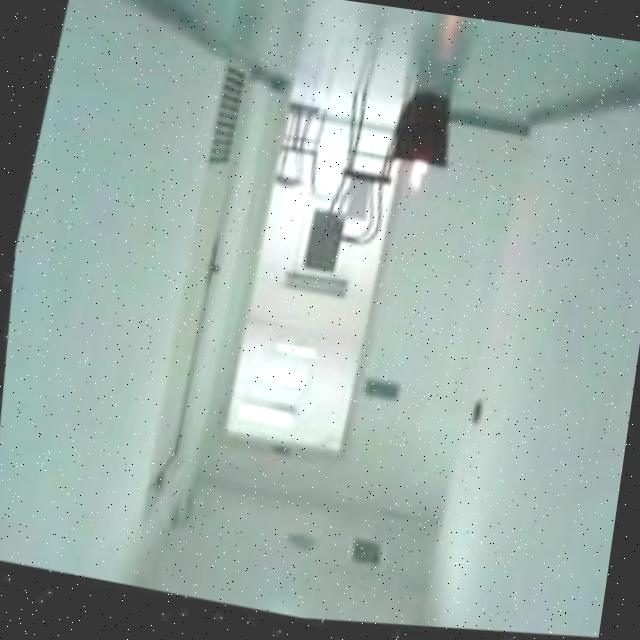fire: (397, 159, 433, 201)
